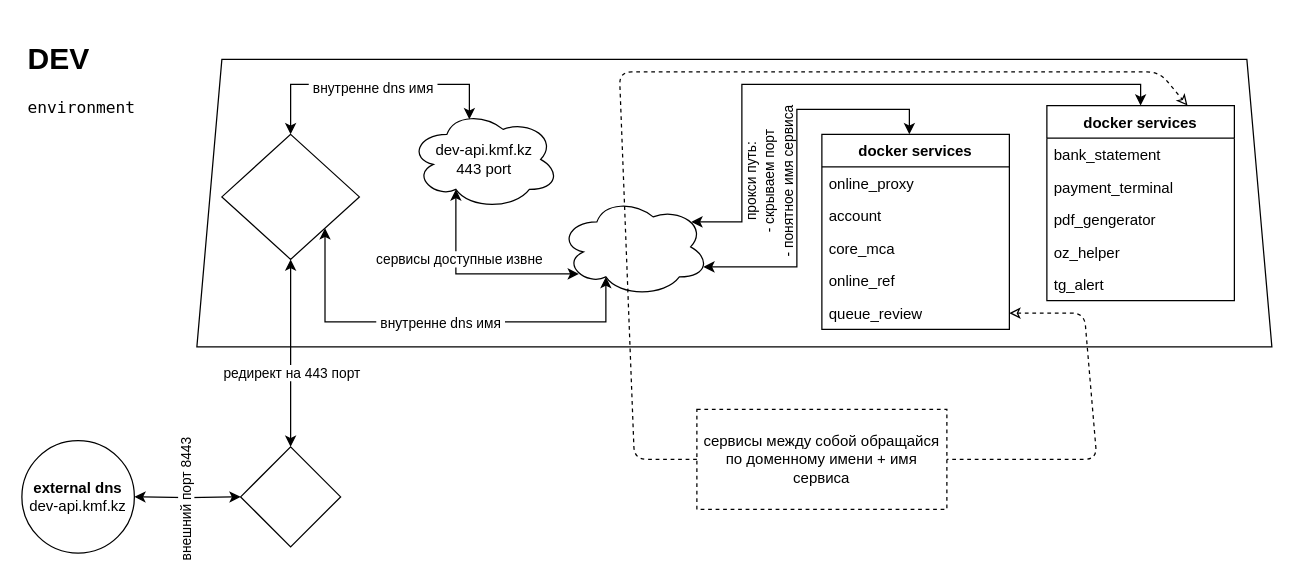
Image size: 1294x583. Some labels were removed from this diagram. Each missing label, with the box of its shape:
baracuda balancer: (239, 446, 341, 547)
dev-svc.kmf.kz 80 port: (558, 196, 709, 297)
nginx reserve proxy: (221, 133, 359, 259)
